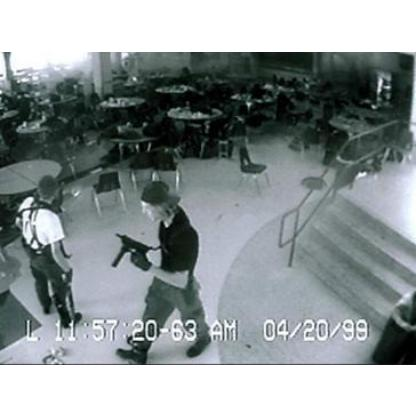gun: (109, 230, 156, 270)
